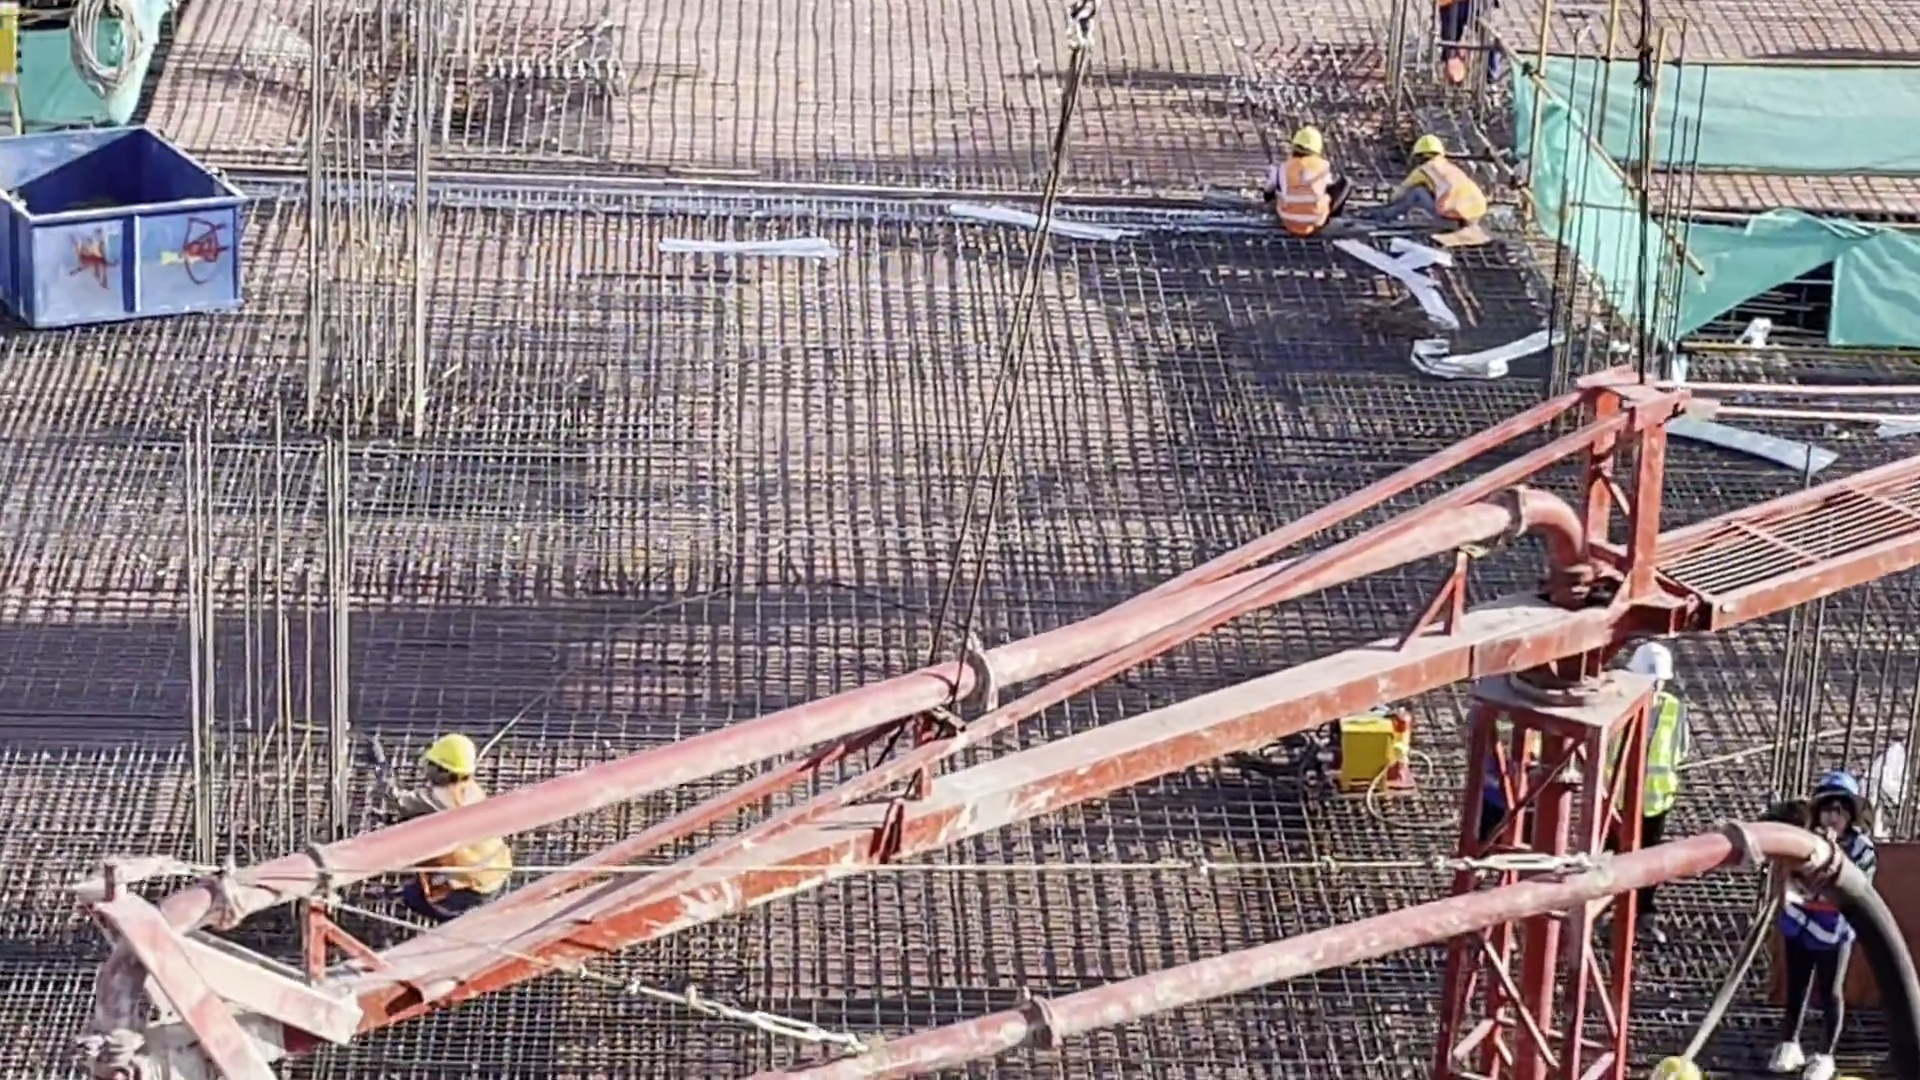helmet: (1813, 772, 1873, 801), (426, 734, 478, 768), (1632, 652, 1677, 686), (1298, 128, 1323, 155), (1412, 138, 1443, 152)
hopper: (4, 138, 221, 327)
person: (1760, 761, 1873, 1080), (1600, 652, 1696, 943), (371, 736, 516, 920), (1364, 134, 1495, 241), (1252, 122, 1352, 253)
vest: (425, 788, 515, 897), (1780, 845, 1867, 945), (1635, 702, 1680, 818), (1273, 157, 1331, 228), (1424, 167, 1493, 226)
